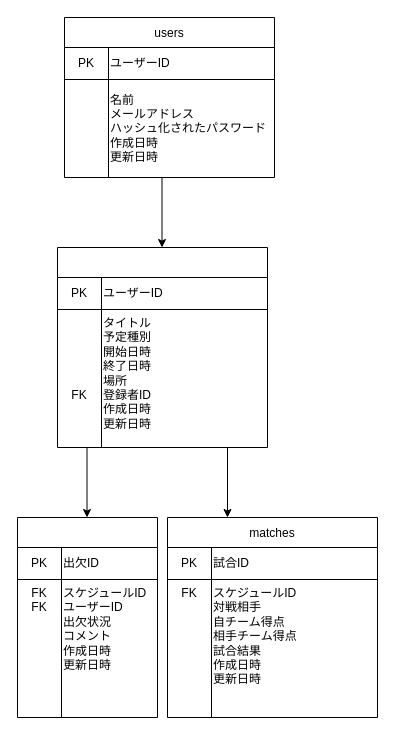
Image size: 395x738. Some labels were removed from this diagram. Here are the shapes that lost their labels. From the top down, the box of each, then its label:
(56, 246, 268, 448): schedules
(16, 516, 158, 718): attendances
